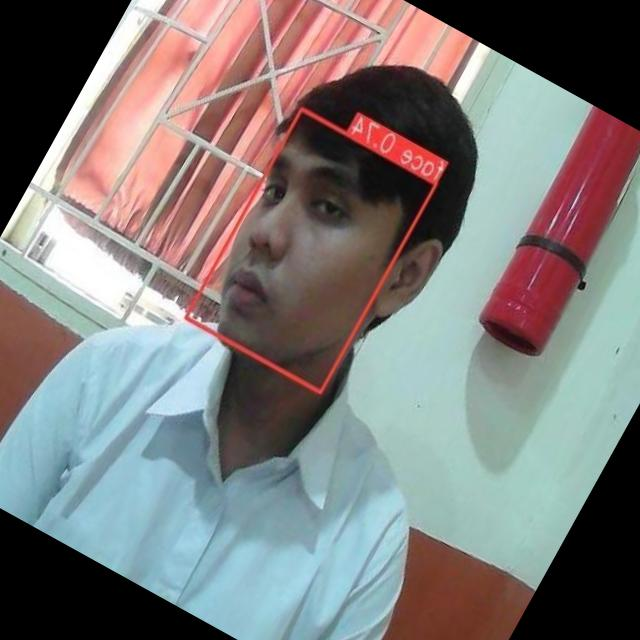bareface: (192, 48, 502, 398)
